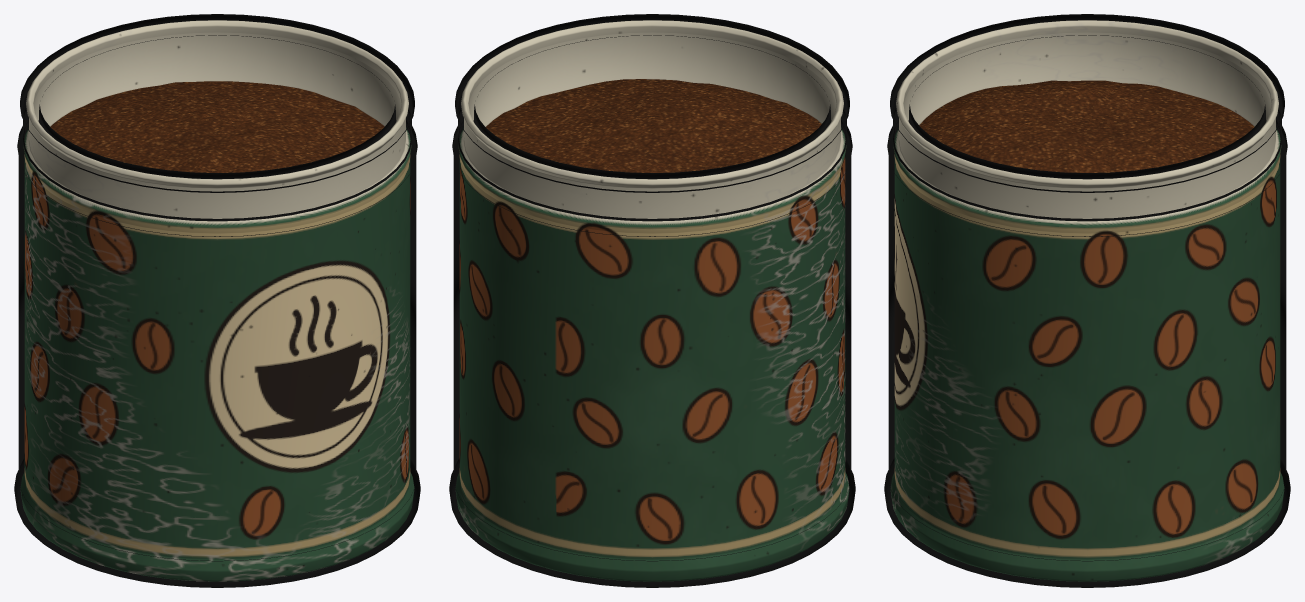
Rendered from CoffeeCan_Open.fbx.
3 renders of one model, left to right at view 1: azimuth 30°, elevation 25°; view 2: azimuth 150°, elevation 25°; view 3: azimuth 270°, elevation 25°, orthographic.
Visible parts, largest first — view 1: CoffeeCan_Open; view 2: CoffeeCan_Open; view 3: CoffeeCan_Open.
Boxes of the visible parts, x1,y1,x2,y2 form: CoffeeCan_Open: (14,14,420,587); CoffeeCan_Open: (449,14,855,587); CoffeeCan_Open: (884,14,1290,587).
Bounding box in the file's own units: 0.1107 × 0.1235 × 0.1107.
Materials: 1 (1 with a texture image).
